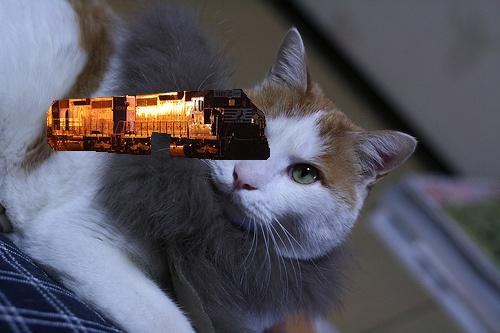tampered: (48, 90, 270, 160)
